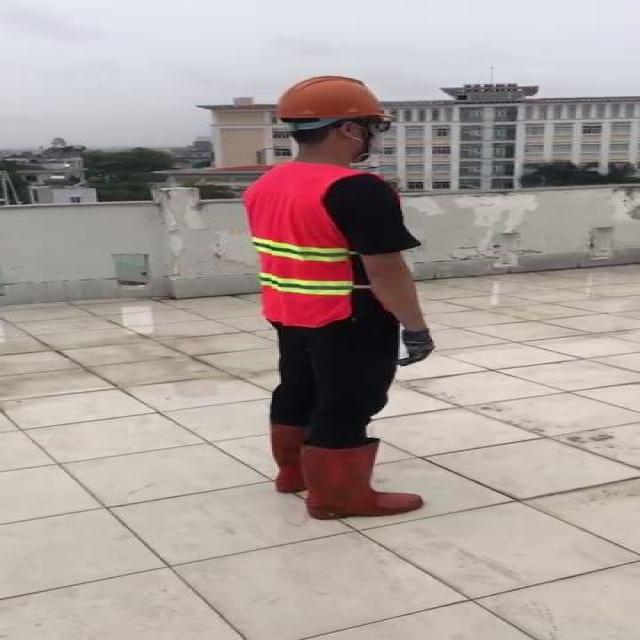boots: (302, 436, 427, 520), (270, 419, 356, 497)
hand_glove: (396, 325, 436, 369)
head_helmet: (273, 74, 390, 122)
person: (232, 67, 452, 524)
vest: (242, 162, 361, 329)
